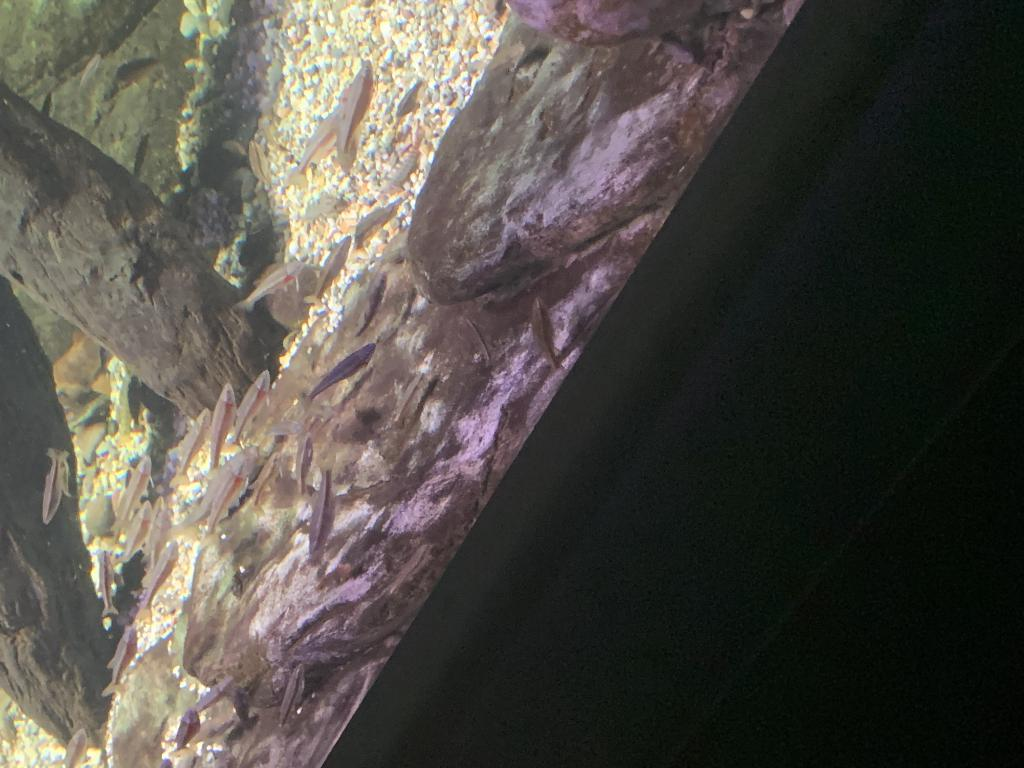fish: (183, 450, 259, 538), (328, 58, 378, 174), (286, 92, 346, 186), (304, 340, 382, 409), (304, 465, 346, 561), (230, 366, 278, 444), (206, 382, 240, 476), (238, 260, 304, 308), (308, 234, 354, 300), (172, 407, 210, 485), (137, 540, 181, 606), (98, 629, 140, 695), (118, 454, 156, 526), (527, 296, 563, 368), (356, 271, 394, 337), (40, 447, 72, 523), (274, 660, 310, 724), (354, 198, 402, 246), (120, 499, 154, 563), (94, 550, 122, 614), (193, 674, 235, 714), (292, 430, 318, 494), (148, 497, 174, 555), (172, 705, 202, 751), (394, 78, 426, 118), (246, 141, 270, 185), (64, 729, 86, 767), (78, 52, 100, 86)
